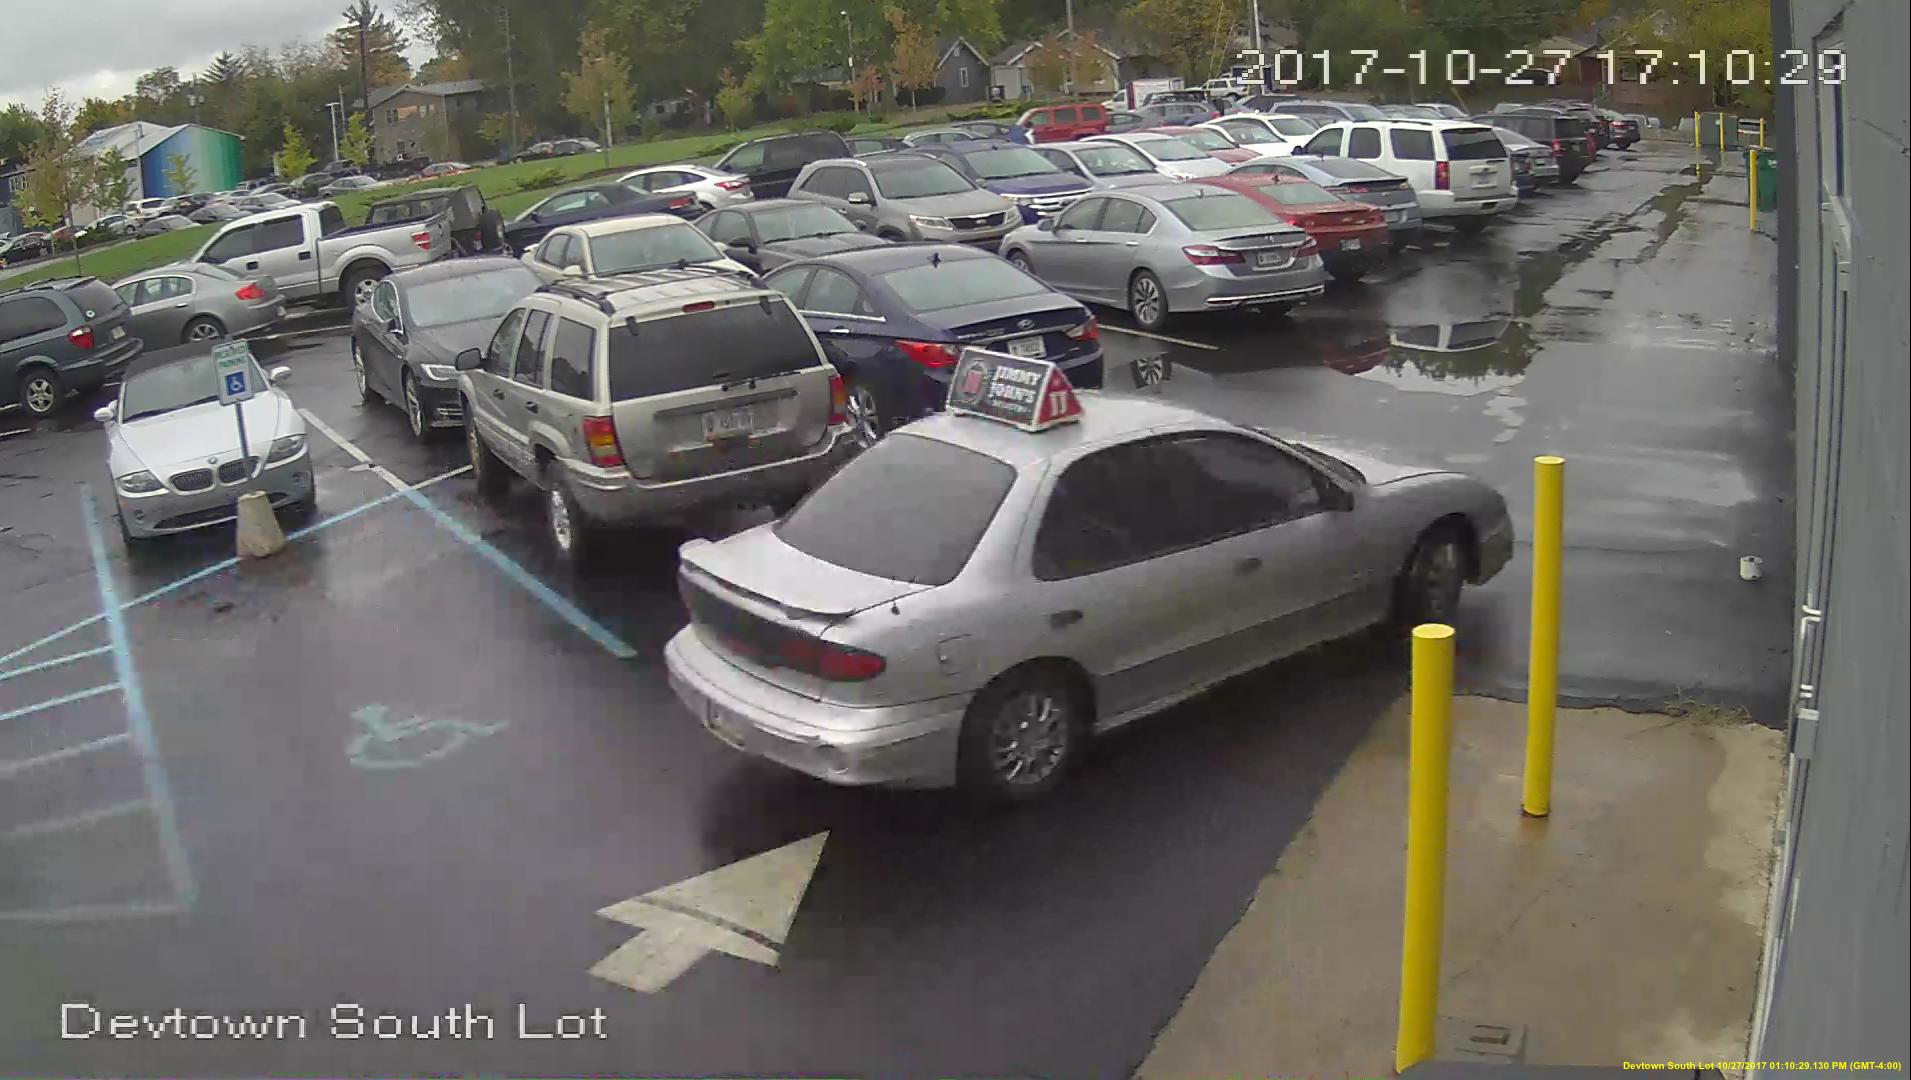jimmy_johns: (942, 343, 1087, 441)
